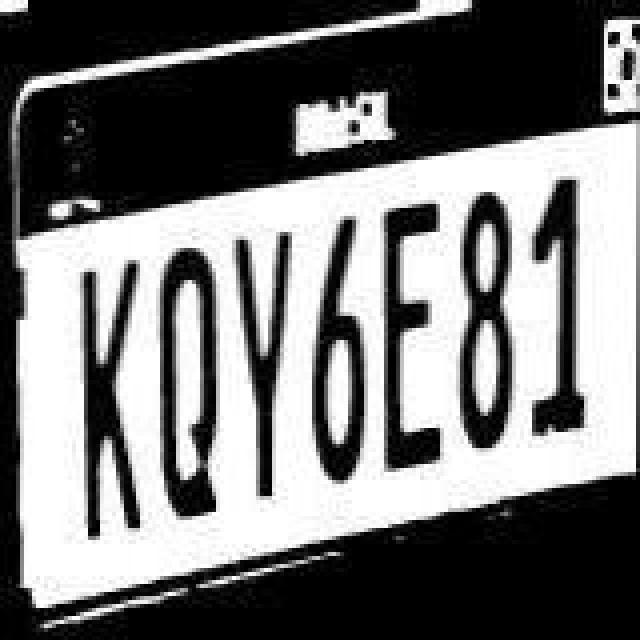1: (524, 166, 600, 450)
6: (310, 204, 374, 484)
8: (448, 178, 524, 462)
E: (378, 198, 450, 474)
K: (72, 244, 148, 540)
Q: (158, 242, 230, 526)
Y: (238, 220, 302, 516)
